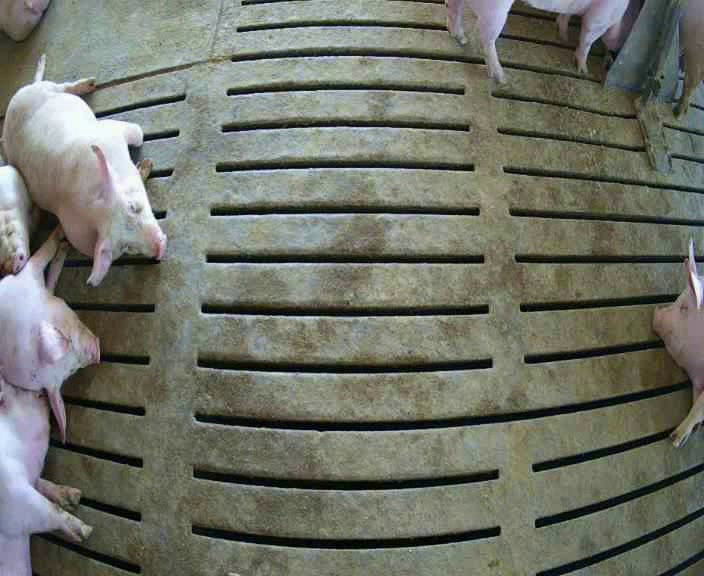pig: (3, 55, 165, 286), (0, 230, 99, 434), (653, 240, 703, 446)
